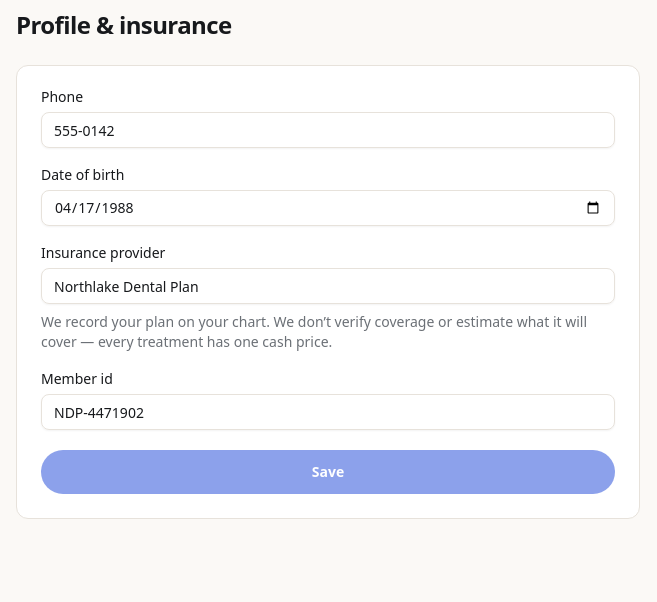
Scenario: saving › sends a field cleared to blank as null, not an empty string
The image size is (657, 602).
Step 1. Clear the field labelled "Insurance provider" → coordinates (328, 286), box [41,268,615,304]
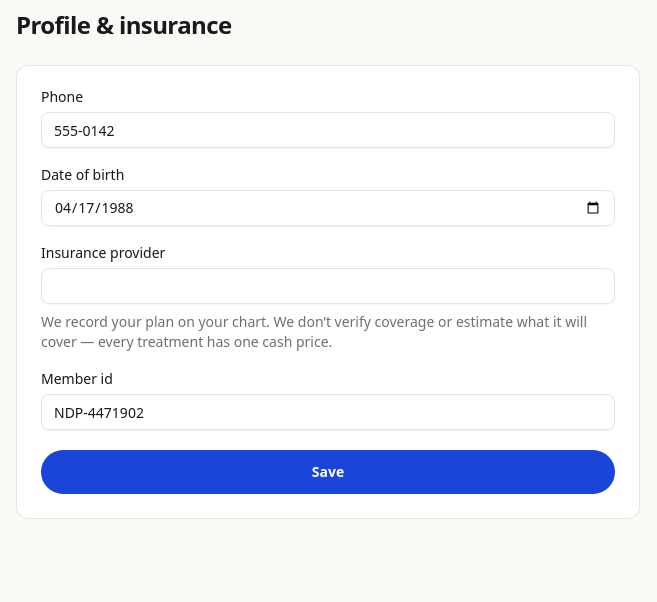
Step 2. Click the button "Save" → coordinates (328, 472), box [41,450,615,494]
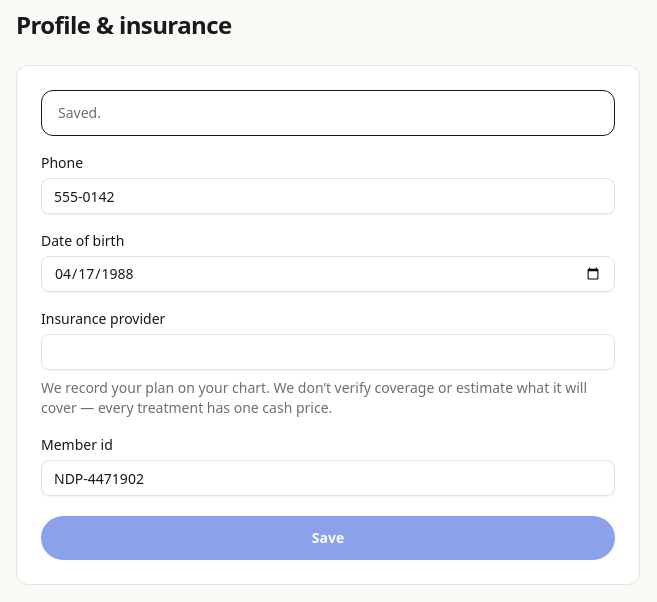
expect the text "Saved." is shown: met, box [58,103,101,122]
